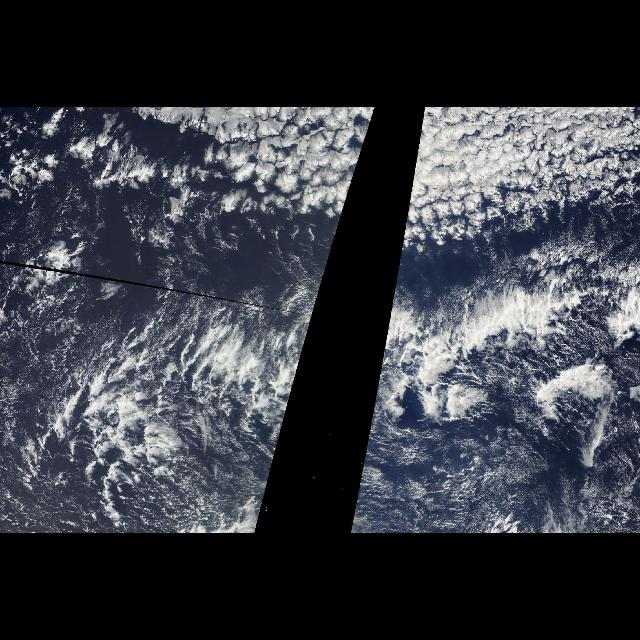Flower: (12, 114, 374, 256), (400, 114, 628, 256)
Gravel: (3, 268, 251, 532)
Sugar: (372, 440, 483, 530)
